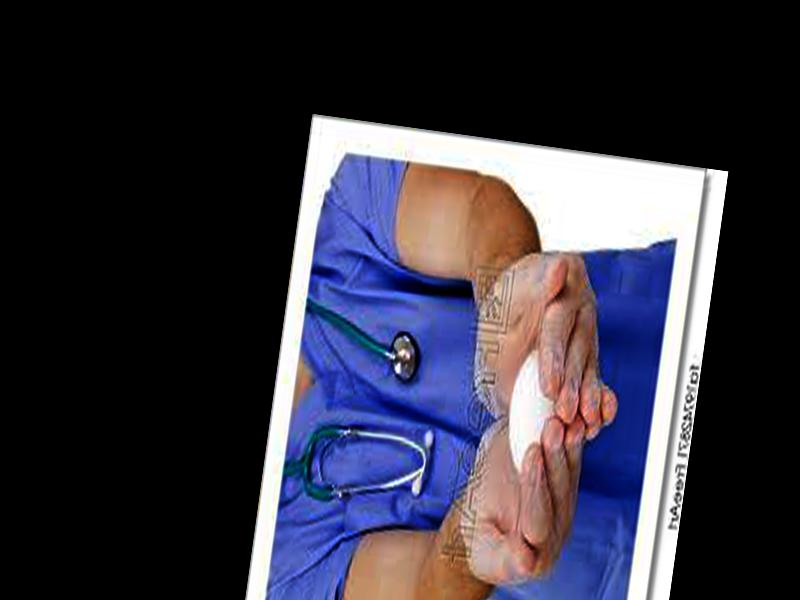Eggs: (500, 351, 564, 478)
